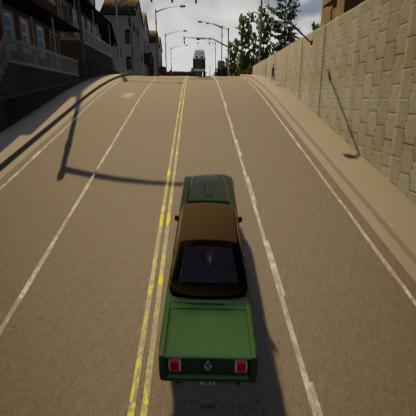Cars: (156, 176, 256, 387), (191, 49, 206, 76)
Pedestrian: (270, 61, 276, 83)
